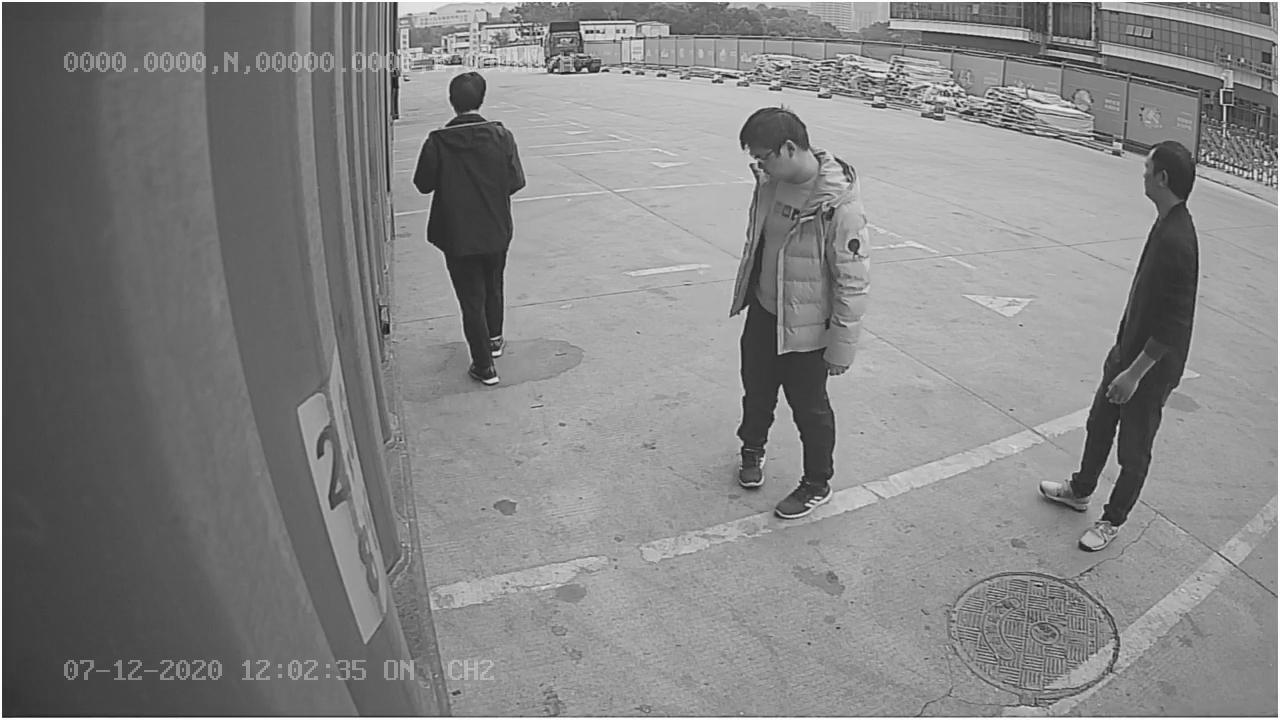person: (1036, 123, 1202, 555), (716, 100, 870, 519), (408, 67, 528, 390)
